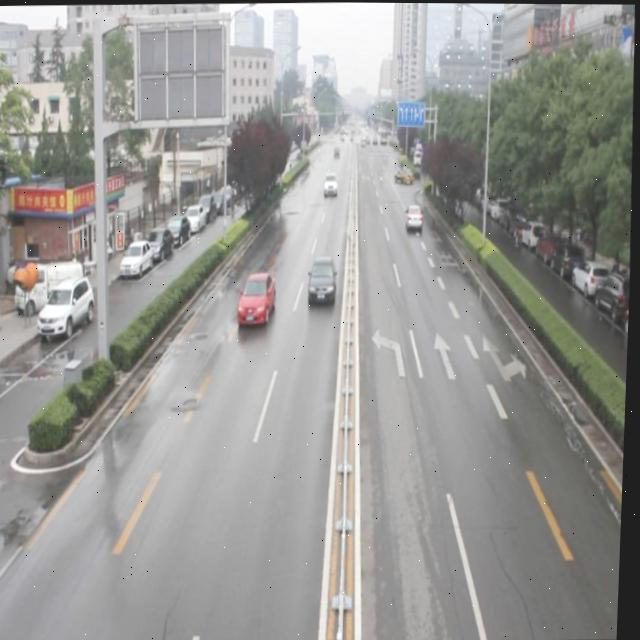car: (237, 266, 279, 326), (306, 254, 340, 304), (403, 201, 425, 233), (394, 163, 416, 186), (322, 172, 340, 196)
